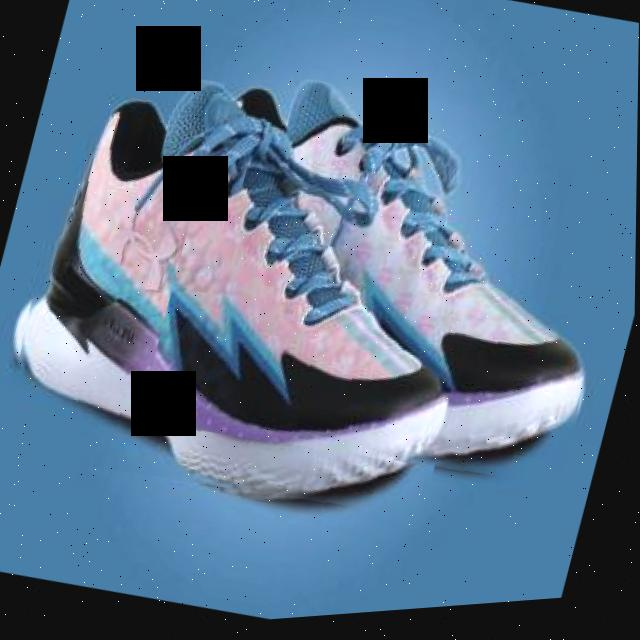shoe: (0, 35, 521, 558), (138, 45, 639, 528)
